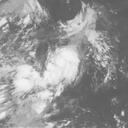cyclone: (42, 46, 80, 86)
